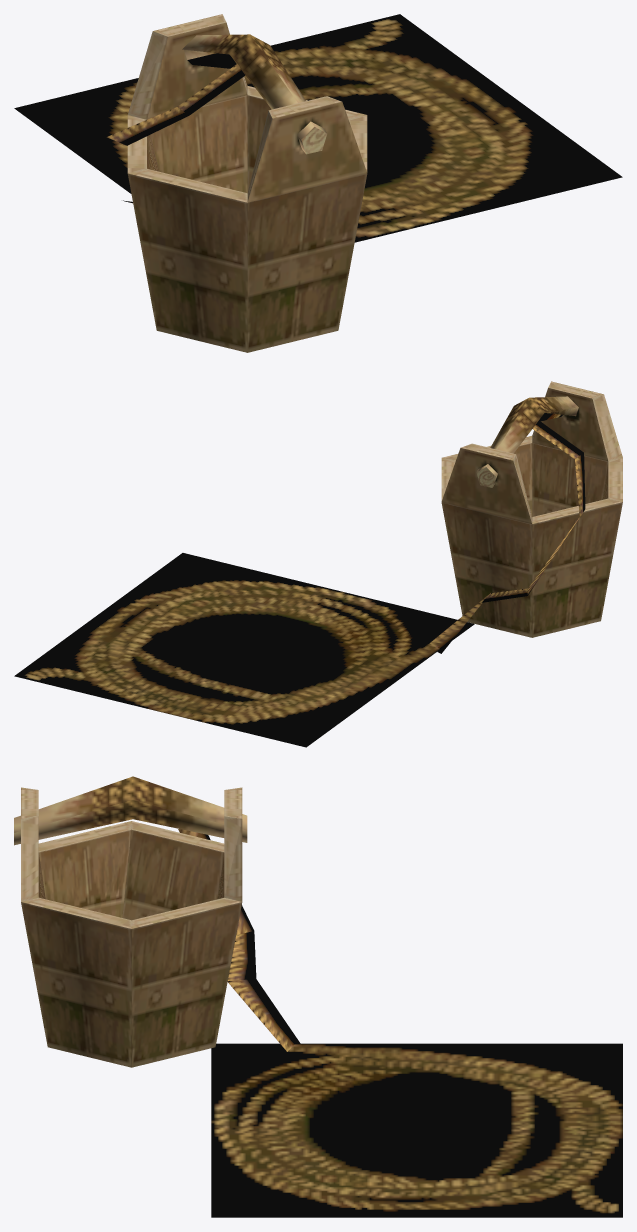
The picture shows the model from 3 angles, top to bottom: view 1: azimuth 30°, elevation 25°; view 2: azimuth 150°, elevation 25°; view 3: azimuth 270°, elevation 25°; orthographic projection. The views are drawn at different scales.
Visible parts, largest first — view 1: geom_node_0; view 2: geom_node_0; view 3: geom_node_0.
Part boxes in pixels (x1,y1,x2,y2): geom_node_0: (14,14,622,352); geom_node_0: (14,381,622,747); geom_node_0: (14,776,622,1217).
Size of the model in its own units: 2.79 by 1.38 by 2.96.
1 material, 1 textured.
